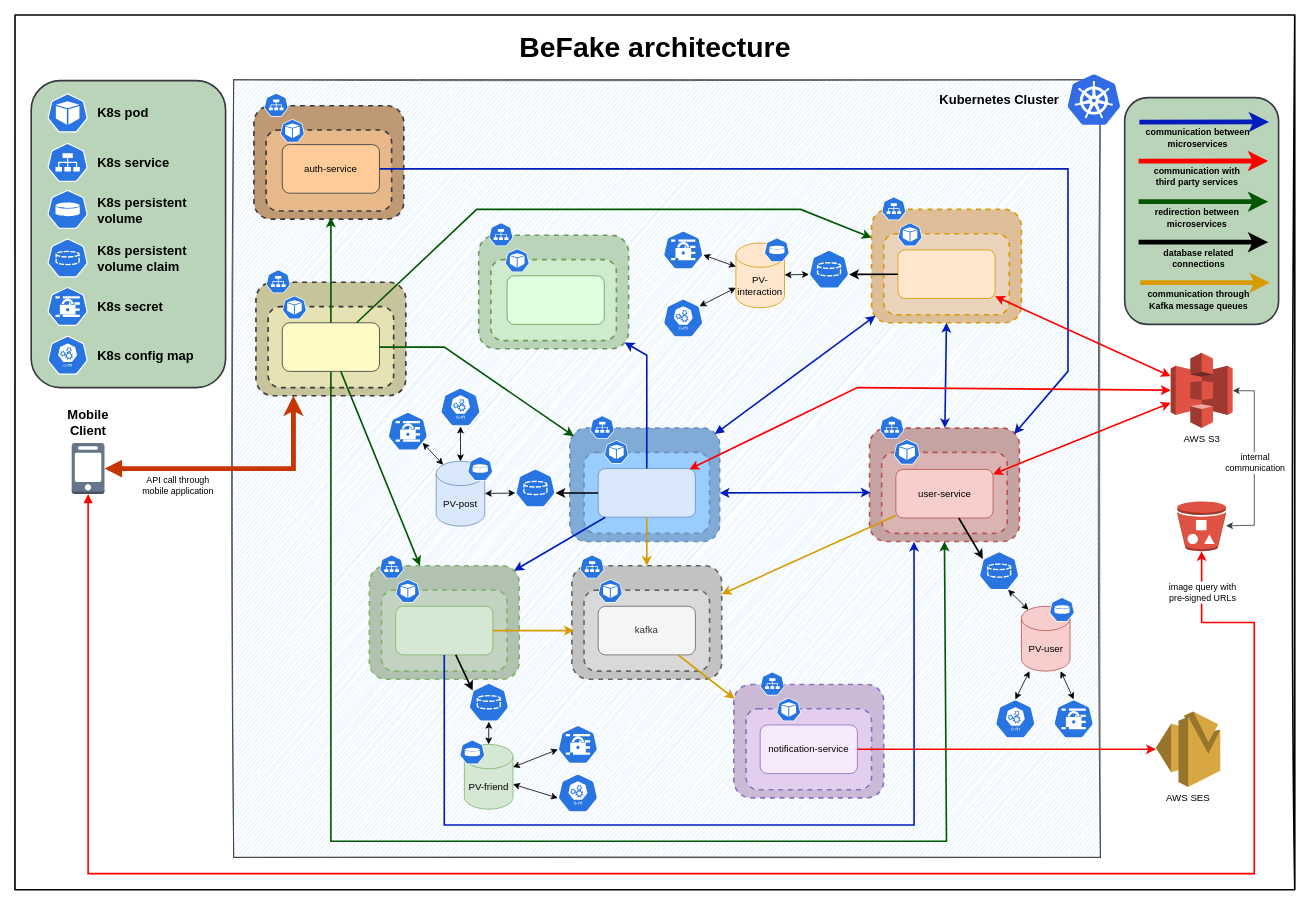
Some shapes in this 1309 by 904 pixel diagram are drawn without their labels. The shapes that lost their labels are listed below. From the top down, each one's box as (x1, y1, x2, y2) in pixels, then its label:
(897, 249, 995, 298): interaction-service
(506, 275, 604, 324): time-service
(281, 322, 379, 371): api-gateway
(597, 468, 695, 517): post-service
(395, 605, 493, 655): friend-service
